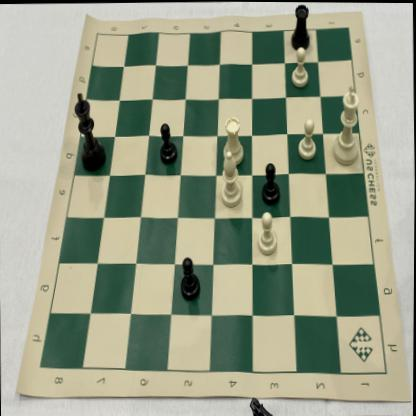black-king: (72, 88, 108, 172)
black-pawn: (178, 253, 201, 302), (259, 160, 282, 205), (158, 119, 178, 165)
black-rook: (289, 2, 315, 52)
white-bishop: (217, 149, 245, 209)
white-king: (328, 80, 364, 169)
white-pawn: (255, 209, 280, 256), (295, 115, 318, 162), (289, 44, 311, 90)
white-rook: (221, 114, 243, 167)
